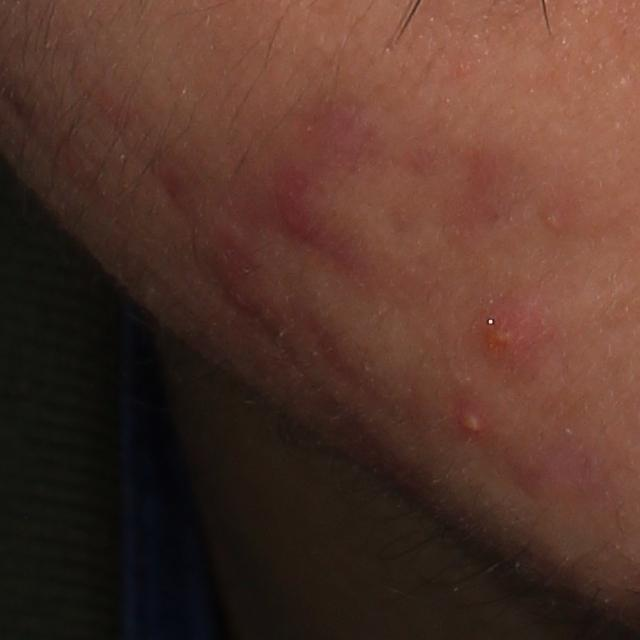papule: (473, 295, 550, 386), (208, 230, 271, 323), (274, 203, 321, 242)
pustule: (442, 397, 498, 450)
